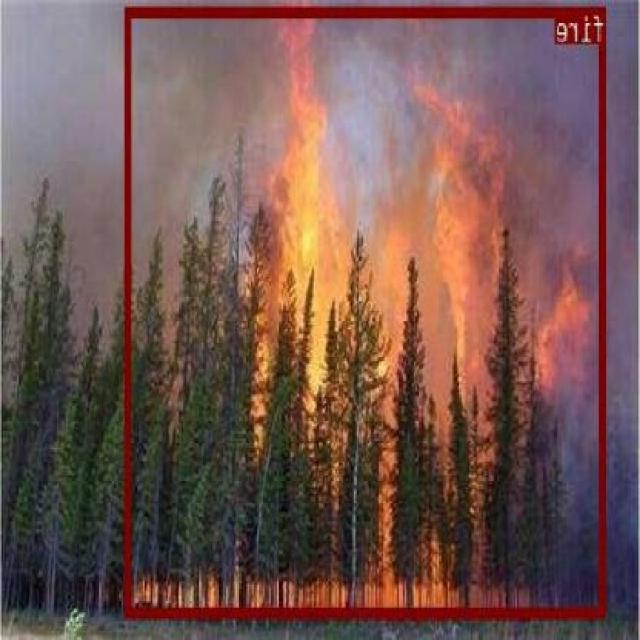Fire: (127, 7, 607, 616)
